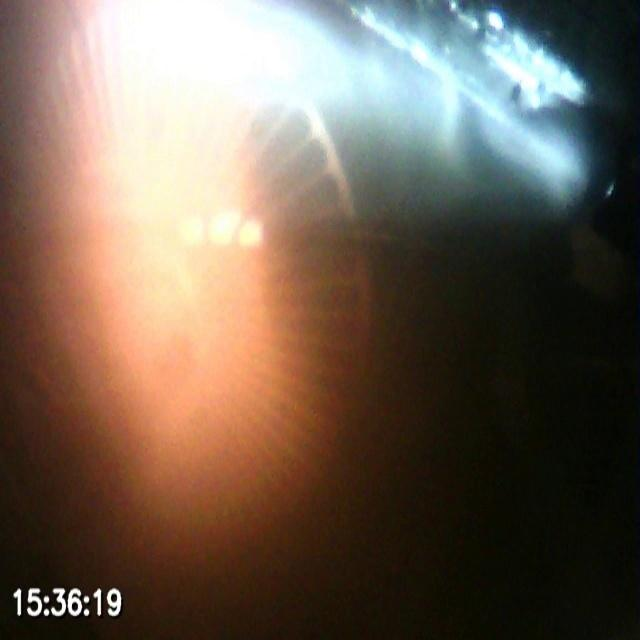white-dots: (184, 208, 265, 249)
